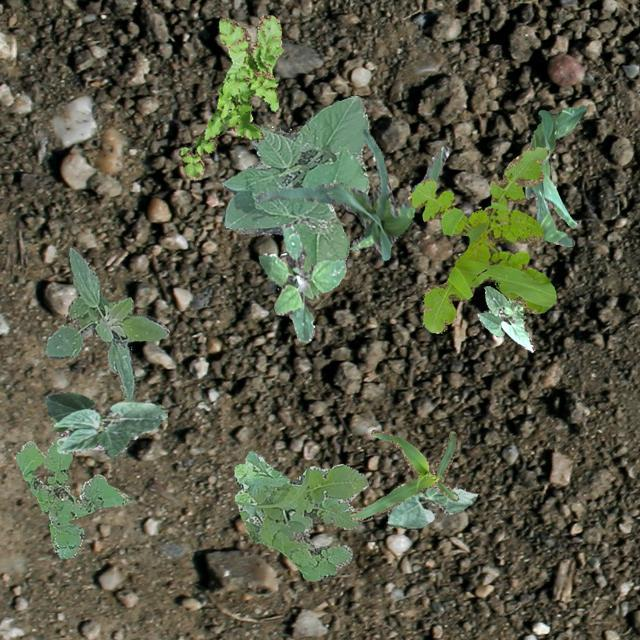crop: (255, 128, 448, 258), (222, 94, 368, 264), (348, 428, 458, 518), (524, 104, 584, 246), (45, 390, 166, 456), (476, 284, 534, 352), (386, 486, 476, 528)
weed: (406, 146, 556, 332), (44, 246, 168, 402), (233, 450, 369, 580), (178, 15, 282, 178), (15, 436, 132, 558), (258, 222, 346, 340)
